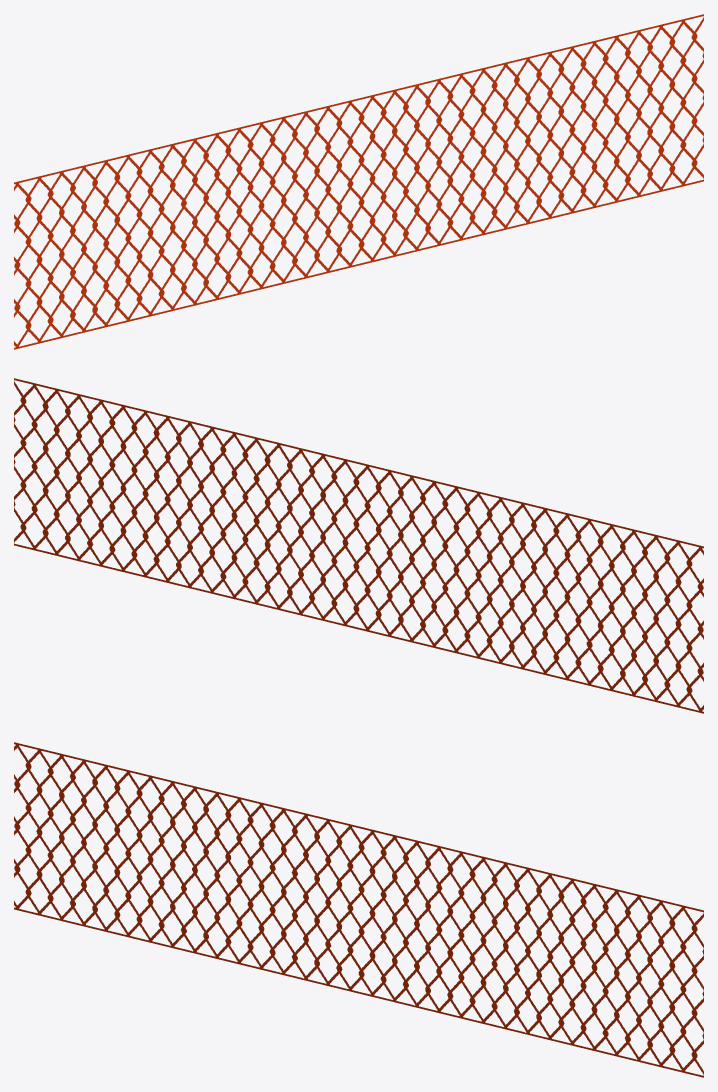
The model's file is orangeFencePeice_flat_3.fbx.
3 renders of one model, top to bottom at view 1: azimuth 30°, elevation 25°; view 2: azimuth 150°, elevation 25°; view 3: azimuth 330°, elevation 25°, orthographic.
Parts seen in each view (by area): view 1: Plane01, Duplicate05; view 2: Plane01, Duplicate05; view 3: Plane01, Duplicate05.
Boxes of the visible parts, left/top/right/bottom form: Plane01: left=14, top=14, right=703, bottom=349; Duplicate05: left=14, top=15, right=703, bottom=345; Plane01: left=14, top=378, right=703, bottom=713; Duplicate05: left=14, top=379, right=703, bottom=709; Plane01: left=14, top=742, right=703, bottom=1077; Duplicate05: left=14, top=742, right=703, bottom=1076.
Size of the model in its own units: 360 by 83.5 by 0.
